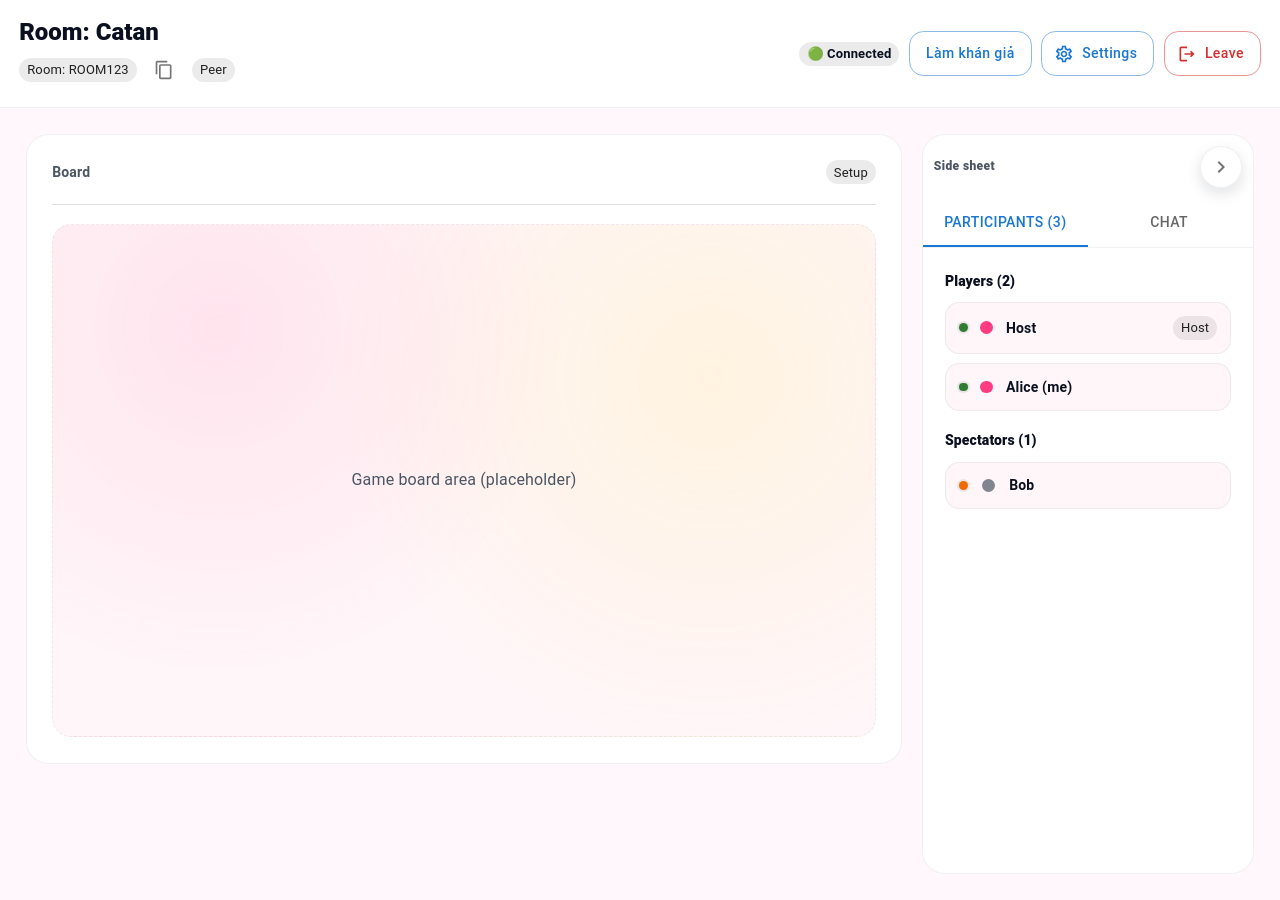
Scenario: GameRoomPage › copy invite link writes to clipboard and shows toast
// Step 3) click "Copy invite link"
Click the button named "Copy invite link" at point(164, 70), box x1=146 y1=52 x2=182 y2=88
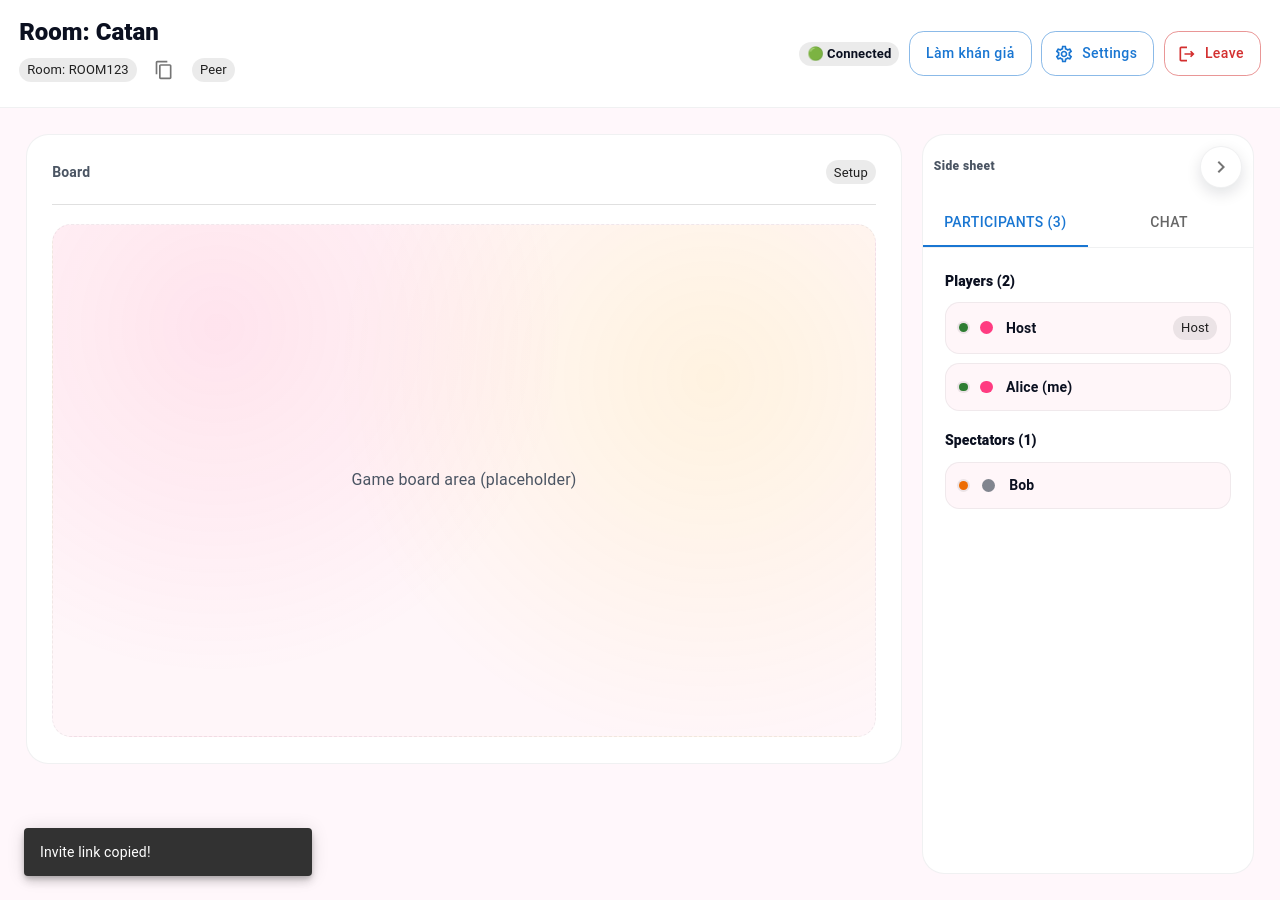
Now the text "Invite link copied!" is shown, box x1=40 y1=844 x2=151 y2=860
